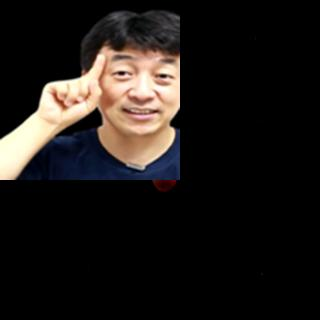IRRITATED: (36, 52, 108, 130)
